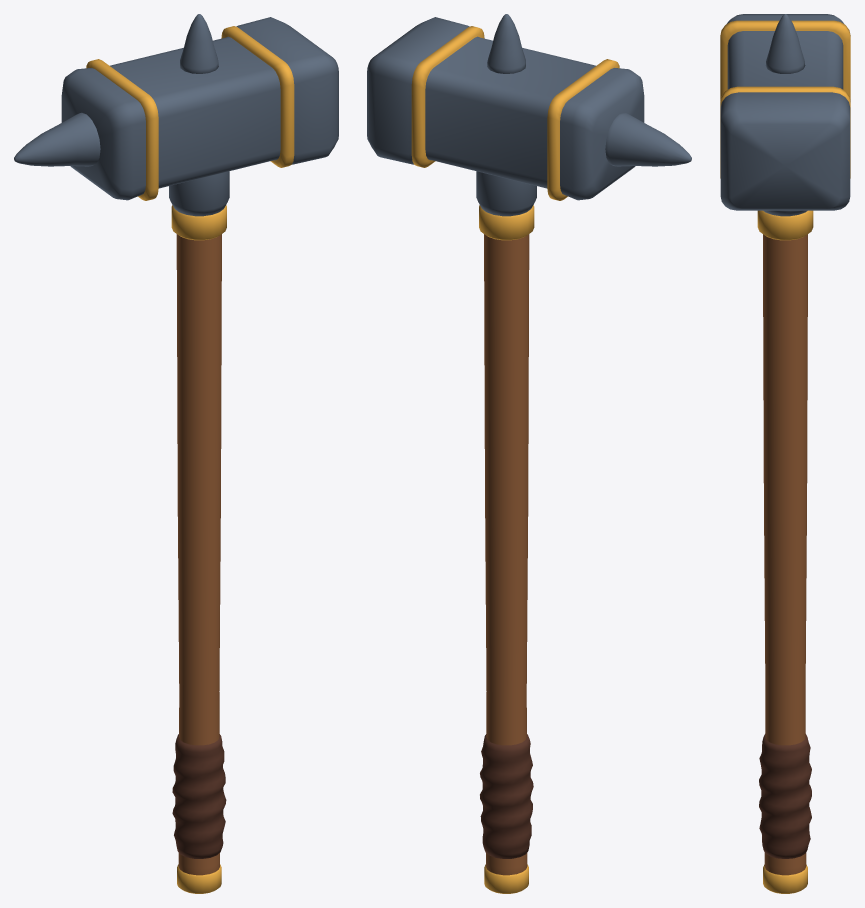
Rendered from arma-martillo.glb.
3 views of the same model, side by side, from view 1: azimuth 30°, elevation 25°; view 2: azimuth 150°, elevation 25°; view 3: azimuth 270°, elevation 25° (orthographic).
Parts seen in each view (by area): view 1: arma-martillo; view 2: arma-martillo; view 3: arma-martillo.
Boxes of the visible parts, left/top/right/bottom form: arma-martillo: left=14, top=14, right=338, bottom=893; arma-martillo: left=367, top=14, right=691, bottom=893; arma-martillo: left=720, top=14, right=850, bottom=893.
Bounding box in the file's own units: 0.3971 × 1.11 × 0.1509.
